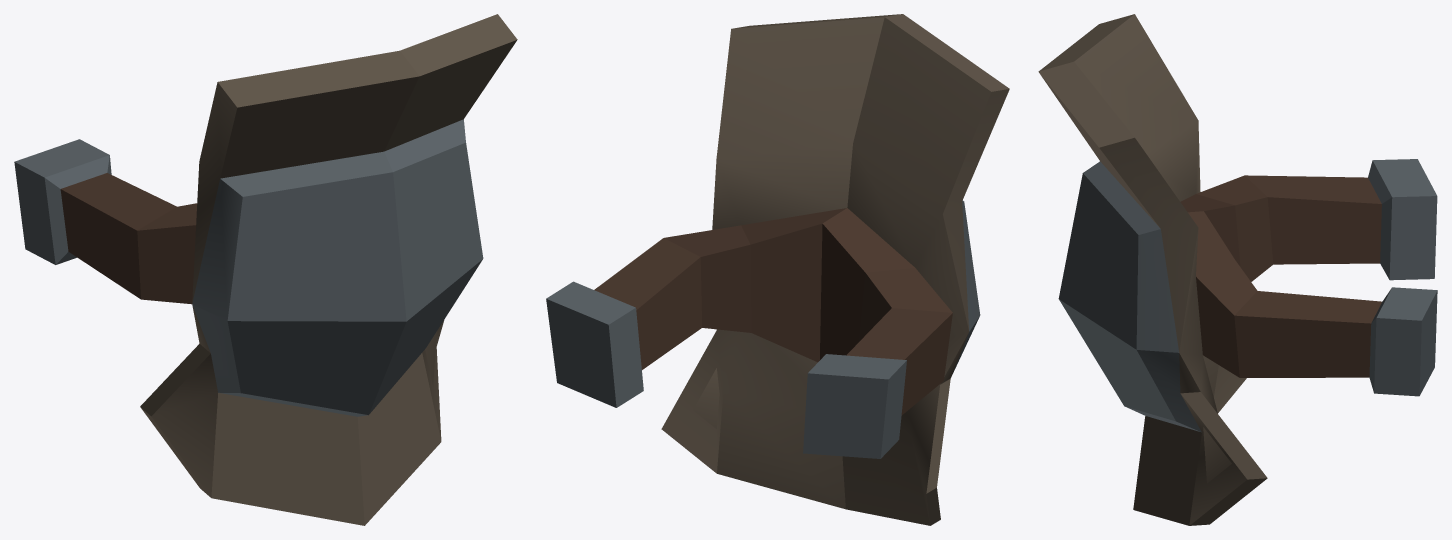
Rendered from Chr_KneeAttachLeft_05_Static.fbx.
3 renders of one model, left to right at view 1: azimuth 30°, elevation 25°; view 2: azimuth 150°, elevation 25°; view 3: azimuth 270°, elevation 25°, orthographic. The views are drawn at different scales.
Visible parts, largest first — view 1: Chr_KneeAttachLeft_05_Static; view 2: Chr_KneeAttachLeft_05_Static; view 3: Chr_KneeAttachLeft_05_Static.
Part boxes in pixels (x1,y1,x2,y2): Chr_KneeAttachLeft_05_Static: (14,14,517,525); Chr_KneeAttachLeft_05_Static: (546,14,1009,525); Chr_KneeAttachLeft_05_Static: (1038,14,1437,525).
Size of the model in its own units: 0.1454 by 0.189 by 0.1522.
